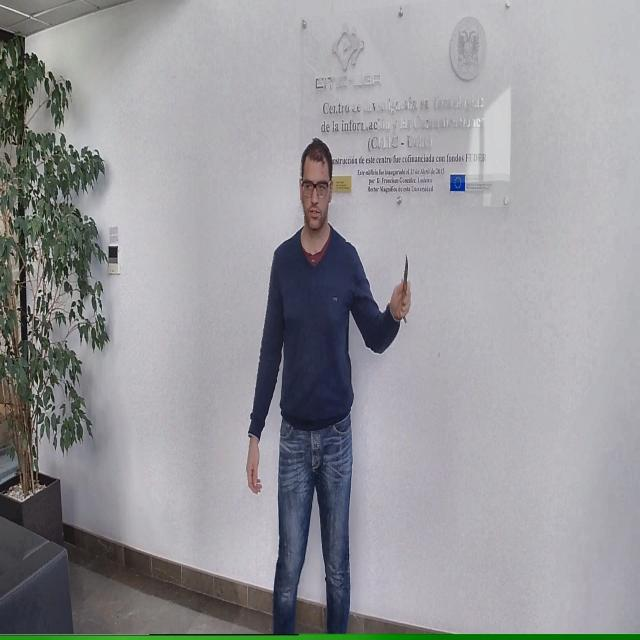knife: (398, 247, 413, 332)
